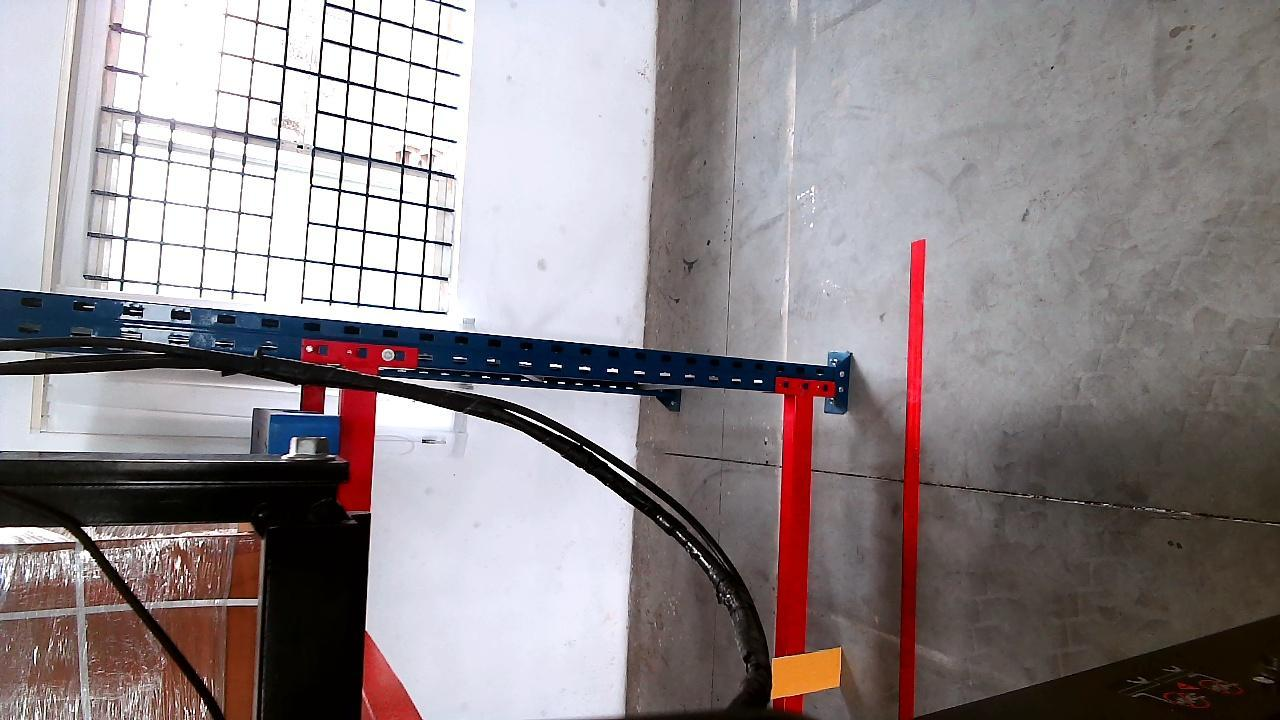red_line: (898, 241, 926, 719)
